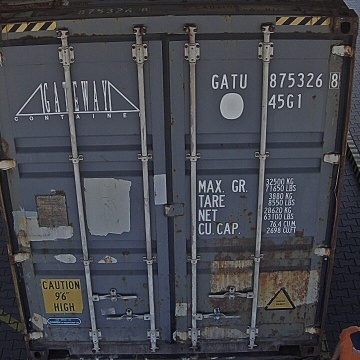serial_id: (212, 72, 339, 88)
